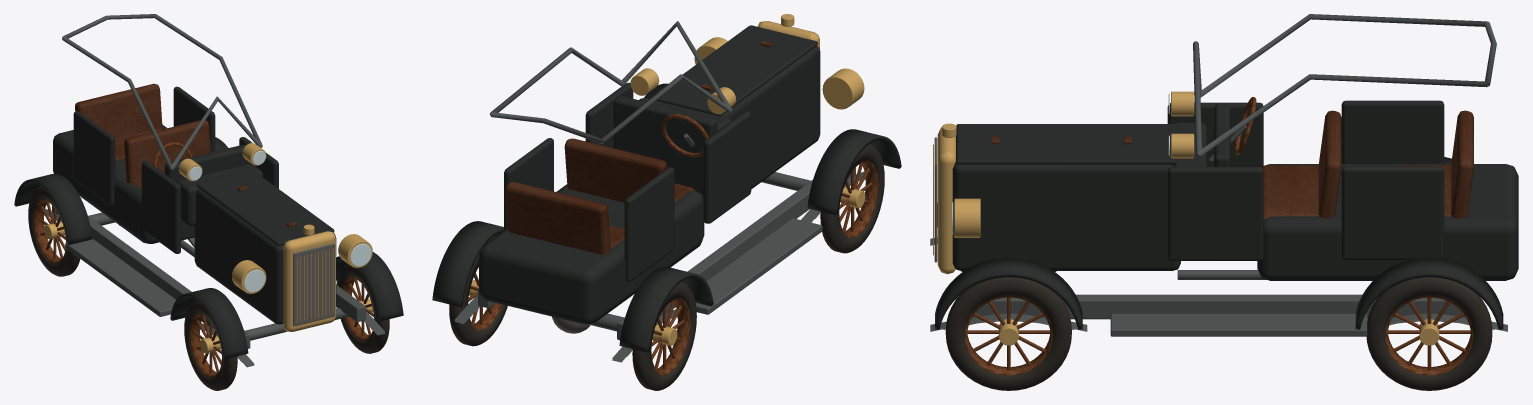
Rendered from Ford_ModelT_1912_Detailed.fbx.
The picture shows the model from 3 angles, left to right: view 1: azimuth 30°, elevation 25°; view 2: azimuth 150°, elevation 25°; view 3: azimuth 270°, elevation 25°; orthographic projection. The views are drawn at different scales.
Visible parts, largest first — view 1: Ford_ModelT_1912_Hood, Ford_ModelT_1912_Hood_Top, Ford_ModelT_1912_Rear_Body, Ford_ModelT_1912_Rear_Door_-1, Ford_ModelT_1912_Bench_Back_1.25, Ford_ModelT_1912_Radiator_Grid, Ford_ModelT_1912_Foredoor_-1, Ford_ModelT_1912_Side_Step_-1, Ford_ModelT_1912_Bench_Back_0.45, Ford_ModelT_1912_Mudguard_-1_-1.27, Ford_ModelT_1912_Mudguard_-1_1.27, Ford_ModelT_1912_Chassis_Rail_-1 (+22 smaller); view 2: Ford_ModelT_1912_Rear_Body, Ford_ModelT_1912_Hood, Ford_ModelT_1912_Hood_Top, Ford_ModelT_1912_Bench_Back_1.25, Ford_ModelT_1912_Firewall, Ford_ModelT_1912_Rear_Door_-1, Ford_ModelT_1912_Bench_Back_0.45, Ford_ModelT_1912_Foredoor_-1, Ford_ModelT_1912_Side_Step_-1, Ford_ModelT_1912_Mudguard_-1_-1.27, Ford_ModelT_1912_Mudguard_-1_1.27, Ford_ModelT_1912_Chassis_Rail_-1 (+18 smaller); view 3: Ford_ModelT_1912_Hood, Ford_ModelT_1912_Rear_Body, Ford_ModelT_1912_Rear_Door_1, Ford_ModelT_1912_Foredoor_1, Ford_ModelT_1912_Hood_Top, Ford_ModelT_1912_Chassis_Rail_1, Ford_ModelT_1912_Rear_Door_-1, Ford_ModelT_1912_Wheel_RR_Tire, Ford_ModelT_1912_Wheel_FR_Tire, Ford_ModelT_1912_Side_Step_1, Ford_ModelT_1912_Mudguard_1_1.27, Ford_ModelT_1912_Mudguard_1_-1.27 (+20 smaller).
Boxes of the visible parts, x1=… form: Ford_ModelT_1912_Hood: x1=194, y1=188, x2=336, y2=324; Ford_ModelT_1912_Hood_Top: x1=196, y1=170, x2=334, y2=245; Ford_ModelT_1912_Rear_Body: x1=53, y1=124, x2=166, y2=243; Ford_ModelT_1912_Rear_Door_-1: x1=73, y1=111, x2=115, y2=205; Ford_ModelT_1912_Bench_Back_1.25: x1=75, y1=83, x2=162, y2=138; Ford_ModelT_1912_Radiator_Grid: x1=293, y1=243, x2=334, y2=326; Ford_ModelT_1912_Foredoor_-1: x1=141, y1=161, x2=180, y2=253; Ford_ModelT_1912_Side_Step_-1: x1=65, y1=238, x2=175, y2=316; Ford_ModelT_1912_Bench_Back_0.45: x1=124, y1=120, x2=210, y2=183; Ford_ModelT_1912_Mudguard_-1_-1.27: x1=170, y1=288, x2=248, y2=359; Ford_ModelT_1912_Mudguard_-1_1.27: x1=14, y1=173, x2=92, y2=244; Ford_ModelT_1912_Chassis_Rail_-1: x1=52, y1=205, x2=250, y2=348; Ford_ModelT_1912_Rear_Body: x1=479, y1=184, x2=704, y2=324; Ford_ModelT_1912_Hood: x1=721, y1=46, x2=820, y2=188; Ford_ModelT_1912_Hood_Top: x1=652, y1=25, x2=817, y2=116; Ford_ModelT_1912_Bench_Back_1.25: x1=505, y1=182, x2=610, y2=254; Ford_ModelT_1912_Firewall: x1=613, y1=96, x2=717, y2=198; Ford_ModelT_1912_Rear_Door_-1: x1=624, y1=167, x2=674, y2=281; Ford_ModelT_1912_Bench_Back_0.45: x1=564, y1=138, x2=667, y2=202; Ford_ModelT_1912_Foredoor_-1: x1=703, y1=111, x2=751, y2=223; Ford_ModelT_1912_Side_Step_-1: x1=695, y1=218, x2=822, y2=314; Ford_ModelT_1912_Mudguard_-1_-1.27: x1=807, y1=129, x2=901, y2=214; Ford_ModelT_1912_Mudguard_-1_1.27: x1=619, y1=266, x2=713, y2=352; Ford_ModelT_1912_Chassis_Rail_-1: x1=617, y1=167, x2=855, y2=340; Ford_ModelT_1912_Hood: x1=952, y1=162, x2=1180, y2=270; Ford_ModelT_1912_Rear_Body: x1=1257, y1=164, x2=1518, y2=280; Ford_ModelT_1912_Rear_Door_1: x1=1341, y1=166, x2=1444, y2=259; Ford_ModelT_1912_Foredoor_1: x1=1167, y1=167, x2=1263, y2=260; Ford_ModelT_1912_Hood_Top: x1=956, y1=124, x2=1177, y2=164; Ford_ModelT_1912_Chassis_Rail_1: x1=972, y1=294, x2=1465, y2=319; Ford_ModelT_1912_Rear_Door_-1: x1=1341, y1=100, x2=1444, y2=163; Ford_ModelT_1912_Wheel_RR_Tire: x1=1366, y1=277, x2=1492, y2=390; Ford_ModelT_1912_Wheel_FR_Tire: x1=945, y1=277, x2=1071, y2=390; Ford_ModelT_1912_Side_Step_1: x1=1110, y1=313, x2=1367, y2=336; Ford_ModelT_1912_Mudguard_1_1.27: x1=1355, y1=257, x2=1503, y2=329; Ford_ModelT_1912_Mudguard_1_-1.27: x1=935, y1=257, x2=1082, y2=329.
Size of the model in its own units: 168 by 199 by 356.
8 materials, 2 textured.
